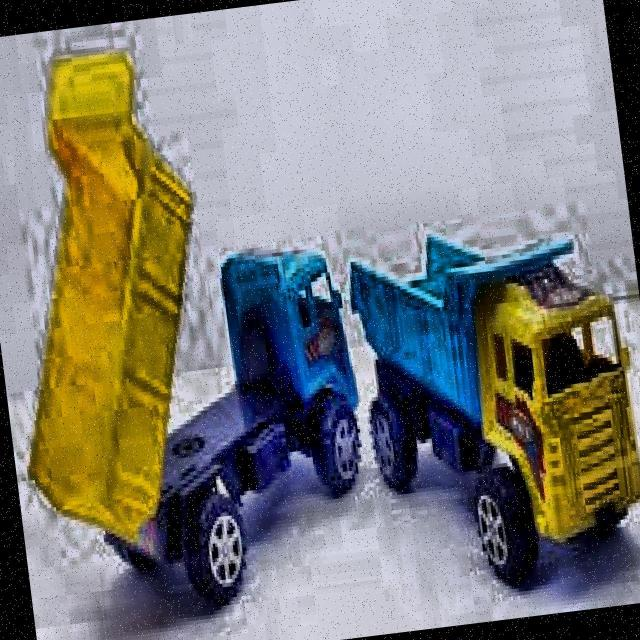dump_truck: (0, 21, 380, 621), (341, 213, 640, 608)
